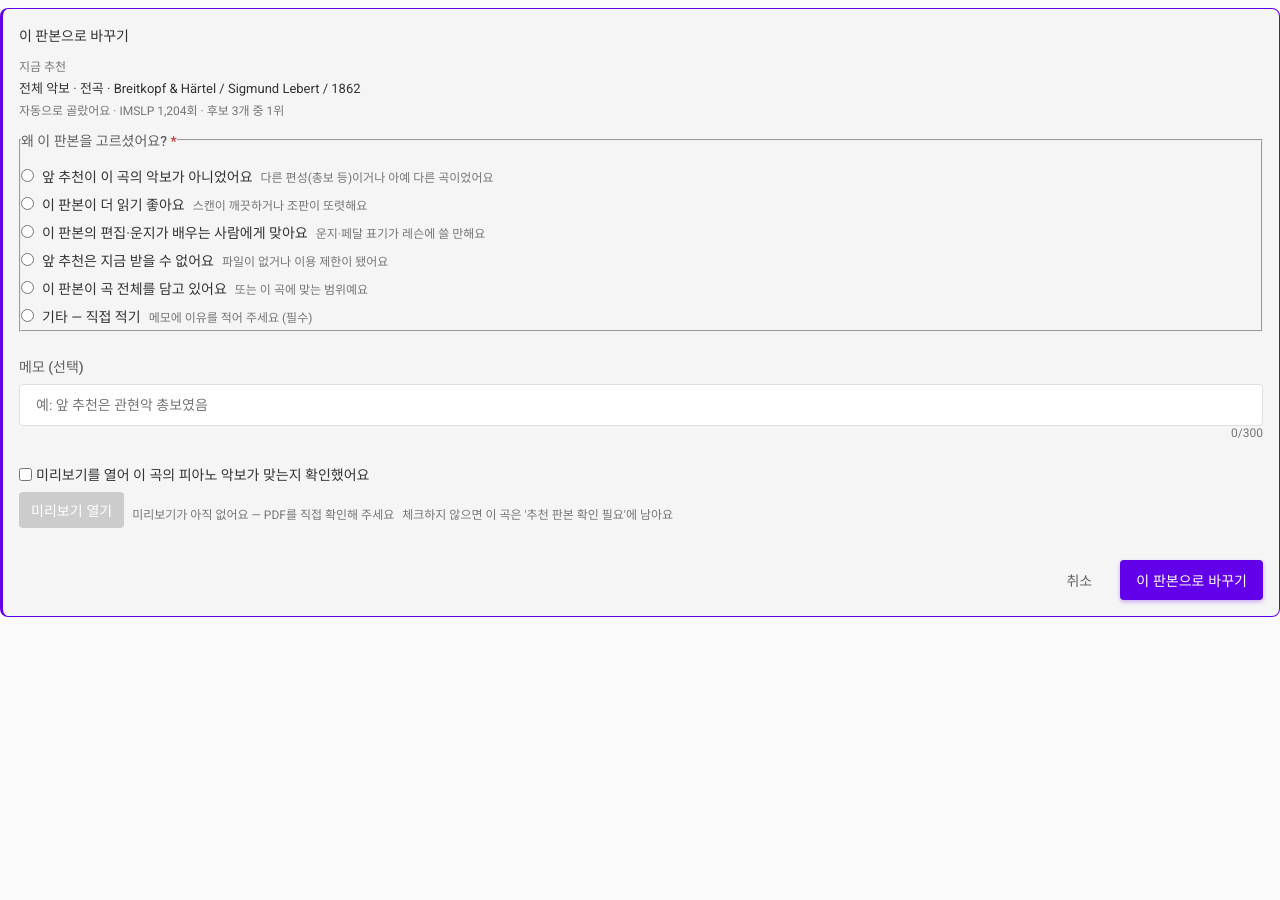
Test: ③ 고른 사유 (필수, 하나) › 사유를 고르지 않고 누르면 저장하지 않고 안내한다 (8-B 2) — 버튼을 비활성으로 두지 않는다
This screenshot has width=1280, height=900.
Click the button "이 판본으로 바꾸기" at (1192, 580), box [1120,560,1263,600]
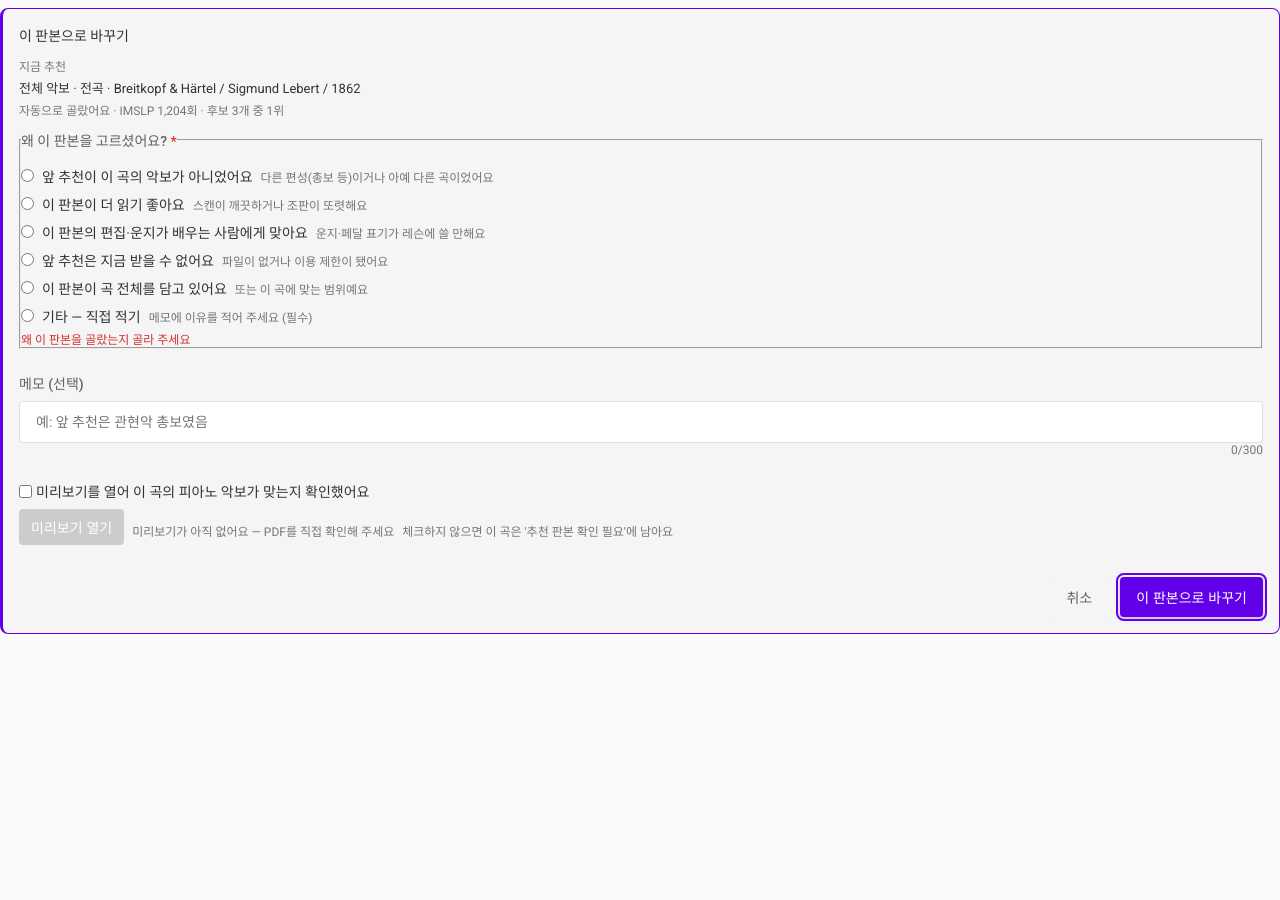
Now the text "왜 이 판본을 골랐는지 골라 주세요" is shown, box [21,333,190,347]
